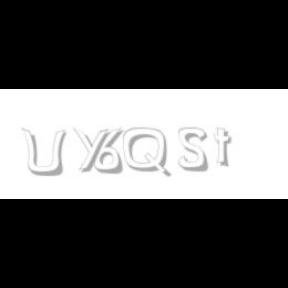6: (94, 128, 124, 176)
Q: (123, 128, 169, 178)
S: (179, 128, 210, 172)
U: (20, 128, 66, 178)
t: (214, 128, 236, 168)
y: (73, 128, 113, 172)
